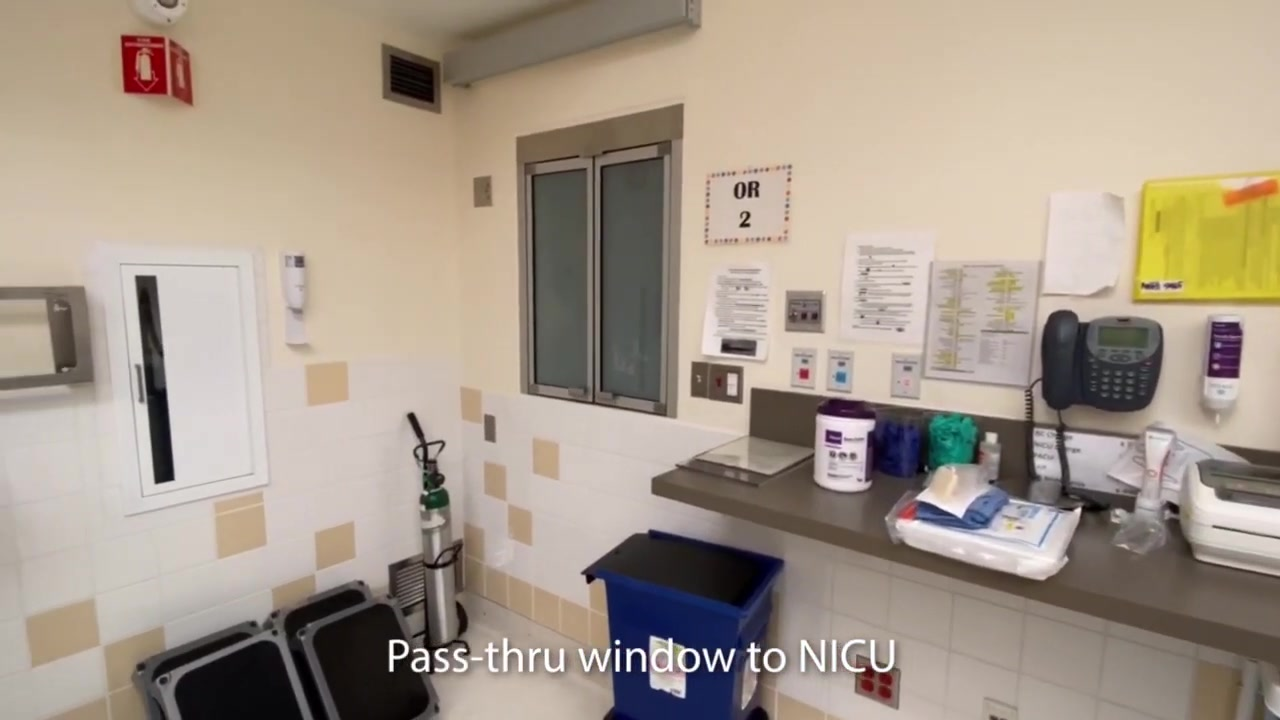countertop: (652, 434, 1280, 666)
dispenser: (282, 252, 311, 318)
handle: (134, 363, 145, 403), (597, 390, 616, 404), (567, 385, 587, 398)
light_switch: (691, 362, 707, 397)
telephone: (1039, 310, 1164, 412)
waste_bin: (581, 529, 786, 720)
